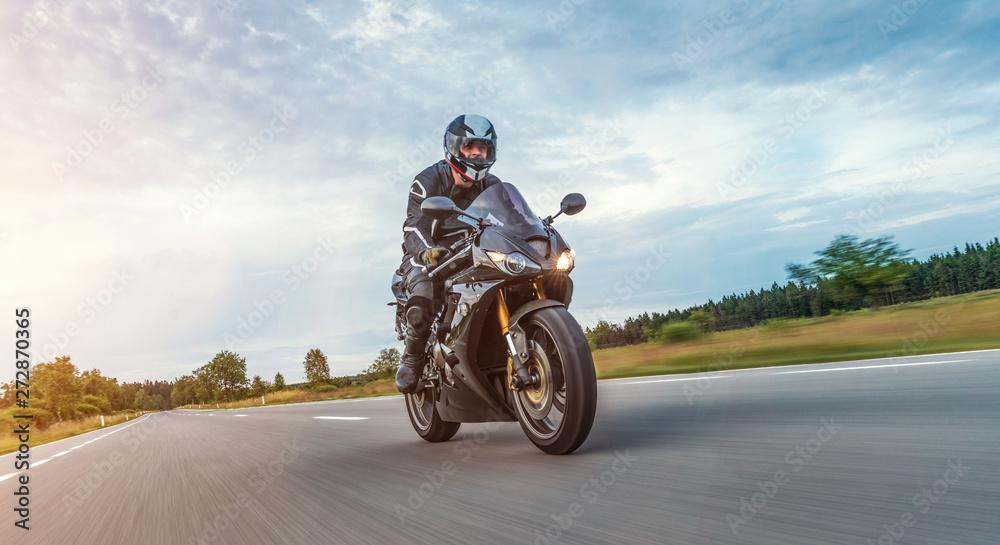helmet: (443, 113, 498, 183)
